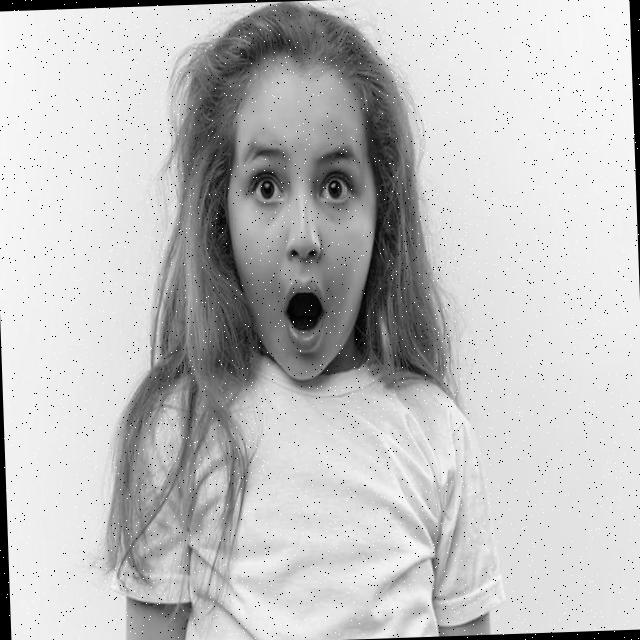Fear: (223, 67, 382, 382)
